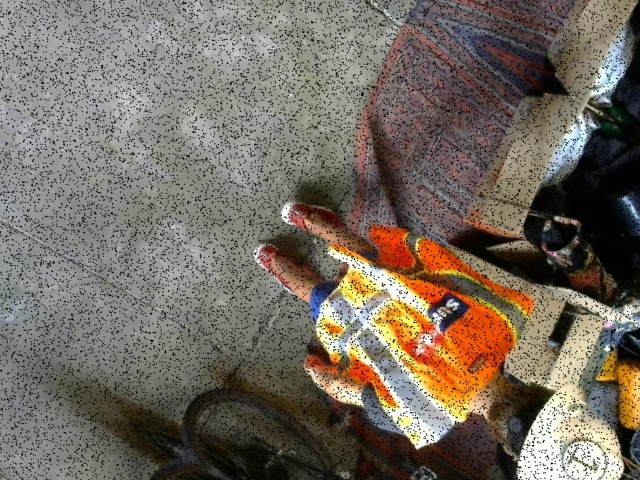one: (554, 430, 615, 479)
